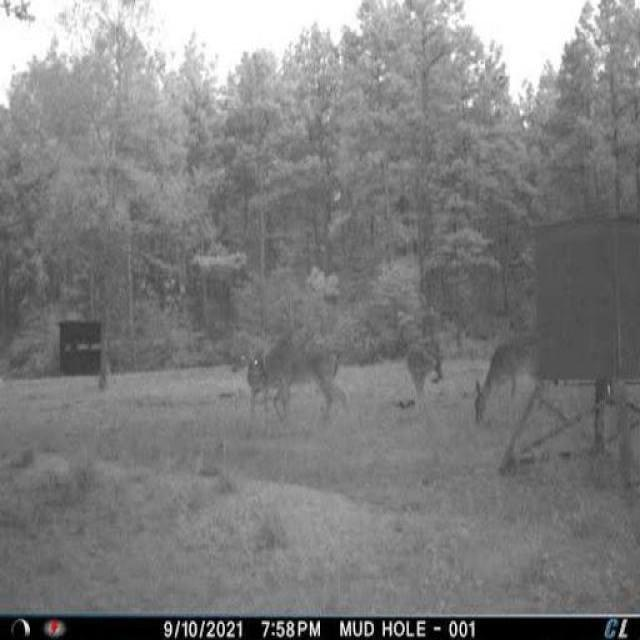deer: (258, 326, 354, 434), (470, 324, 541, 427), (400, 329, 451, 407)
